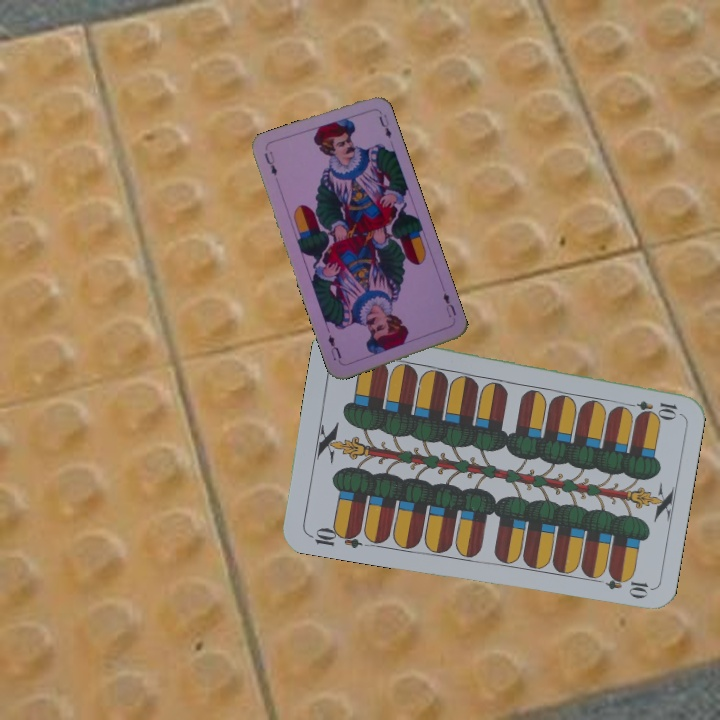E10: (305, 522, 364, 551), (621, 396, 680, 419)
EU: (439, 289, 459, 320), (260, 147, 280, 178)
